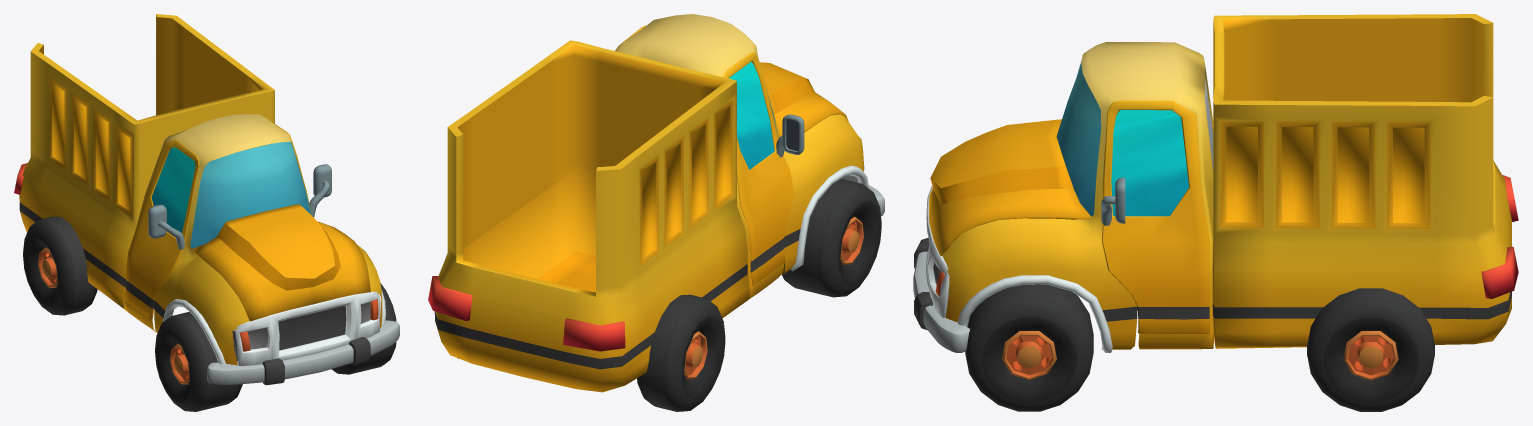
File: Car3.fbx
3 renders of one model, left to right at view 1: azimuth 30°, elevation 25°; view 2: azimuth 150°, elevation 25°; view 3: azimuth 270°, elevation 25°, orthographic. The views are drawn at different scales.
Parts seen in each view (by area): view 1: Cube.020, Cube.028, Cube.031, Cube.029, Circle.005, Circle.003, Cube.022, Cube.025, Cube.024, Cube.026, Cube.030; view 2: Cube.020, Circle.005, Circle.003, Cube.022, Cube.028, Cube.024, Cube.030, Cube.026; view 3: Cube.020, Cube.022, Circle.005, Cube.028, Circle.003, Cube.024, Cube.031, Cube.025, Cube.030, Cube.029, Cube.026.
Part boxes in pixels (bbox=[...]): Cube.020: bbox=[14, 14, 382, 365]; Cube.028: bbox=[192, 204, 370, 321]; Cube.031: bbox=[190, 141, 311, 248]; Cube.029: bbox=[235, 291, 379, 365]; Circle.005: bbox=[155, 283, 396, 411]; Circle.003: bbox=[23, 216, 97, 315]; Cube.022: bbox=[124, 118, 314, 319]; Cube.025: bbox=[207, 320, 399, 385]; Cube.024: bbox=[151, 143, 273, 232]; Cube.026: bbox=[148, 164, 331, 249]; Cube.030: bbox=[163, 289, 386, 364]; Cube.020: bbox=[428, 14, 864, 392]; Circle.005: bbox=[782, 178, 881, 297]; Circle.003: bbox=[458, 294, 725, 411]; Cube.022: bbox=[617, 25, 794, 285]; Cube.028: bbox=[759, 62, 848, 136]; Cube.024: bbox=[729, 62, 774, 169]; Cube.030: bbox=[790, 165, 868, 271]; Cube.026: bbox=[776, 114, 804, 157]; Cube.020: bbox=[942, 14, 1518, 349]; Cube.022: bbox=[1102, 100, 1209, 333]; Circle.005: bbox=[965, 284, 1093, 411]; Cube.028: bbox=[929, 119, 1091, 256]; Circle.003: bbox=[1307, 288, 1434, 411]; Cube.024: bbox=[1111, 110, 1188, 216]; Cube.031: bbox=[1056, 60, 1101, 216]; Cube.025: bbox=[913, 237, 969, 352]; Cube.030: bbox=[957, 275, 1112, 352]; Cube.029: bbox=[926, 186, 949, 317]; Cube.026: bbox=[1101, 137, 1125, 225].
Size of the model in its own units: 2.17 by 2.3 by 4.28.
